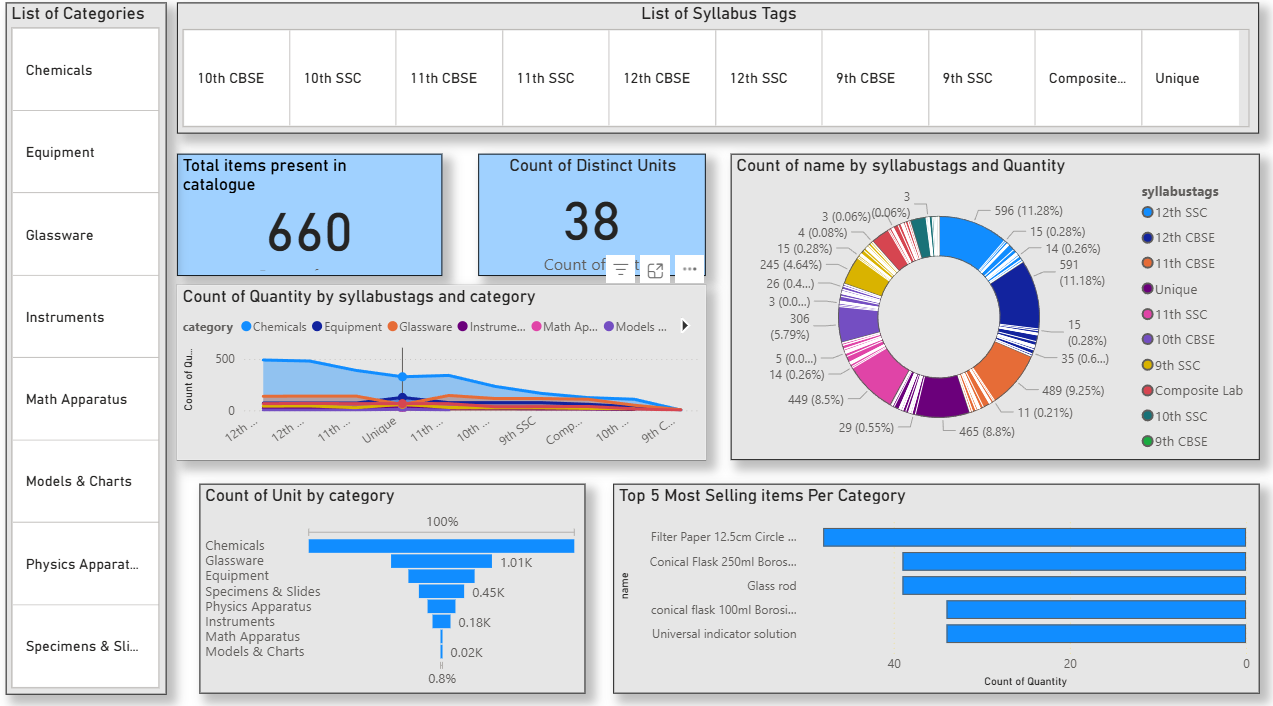

The dashboard page shown, as its layout file describes it:
{"tool":"powerbi","page":{"name":"Insights-Overview","canvas":[1280,720],"ordinal":0},"visuals":[{"type":"card","title":"Total items present in catalogue","fields":{"Values":["Count(Sheet1.name)"]},"box":[189.1,163,263.7,121.9],"z":0},{"type":"clusteredBarChart","title":"Top 5 Most Selling items Per Category","fields":{"Category":["Sheet1.name"],"Y":["CountNonNull(Sheet1.Quantity)"]},"box":[623.2,491.4,643.1,209],"z":1000},{"type":"advancedSlicerVisual","title":"List of Categories","fields":{"Values":["Sheet1.category"]},"box":[18.5,12.8,159.6,688.5],"z":2000},{"type":"advancedSlicerVisual","title":"List of Syllabus Tags","fields":{"Values":["Main Sheet.syllabustags"]},"box":[189,12.9,1076.7,130.3],"z":3000},{"type":"donutChart","fields":{"Y":["CountNonNull(Main Sheet.name)"],"Series":["Main Sheet.Quantity"],"Category":["Main Sheet.syllabustags"]},"box":[740.2,163,526.2,304.8],"z":4000},{"type":"funnel","fields":{"Category":["Main Sheet.category"],"Y":["CountNonNull(Main Sheet.Unit)"]},"box":[211.5,491.4,384.4,209],"z":5000},{"type":"card","title":"Count of Distinct Units","fields":{"Values":["Count(Main Sheet.Unit)"]},"box":[488.9,163,226.4,121.9],"z":6000},{"type":"lineChart","fields":{"Category":["Main Sheet.syllabustags"],"Y":["CountNonNull(Main Sheet.Quantity)"],"Series":["Main Sheet.category"]},"box":[189.1,293.6,526.2,174.2],"z":7000}]}

Visuals, with their boxes in screenshot pixels (x1, y1, x2, y2), scaled from the page's 1280x720 canvas onto the 1273x706 screenshot:
"Total items present in catalogue" card: (188, 160, 450, 279)
"Top 5 Most Selling items Per Category" clusteredBarChart: (620, 482, 1259, 687)
"List of Categories" advancedSlicerVisual: (18, 13, 177, 688)
"List of Syllabus Tags" advancedSlicerVisual: (188, 13, 1259, 140)
donutChart - CountNonNull(Main Sheet.name) x Main Sheet.Quantity: (736, 160, 1259, 459)
funnel - Main Sheet.category x CountNonNull(Main Sheet.Unit): (210, 482, 593, 687)
"Count of Distinct Units" card: (486, 160, 711, 279)
lineChart - Main Sheet.syllabustags x CountNonNull(Main Sheet.Quantity): (188, 288, 711, 459)
